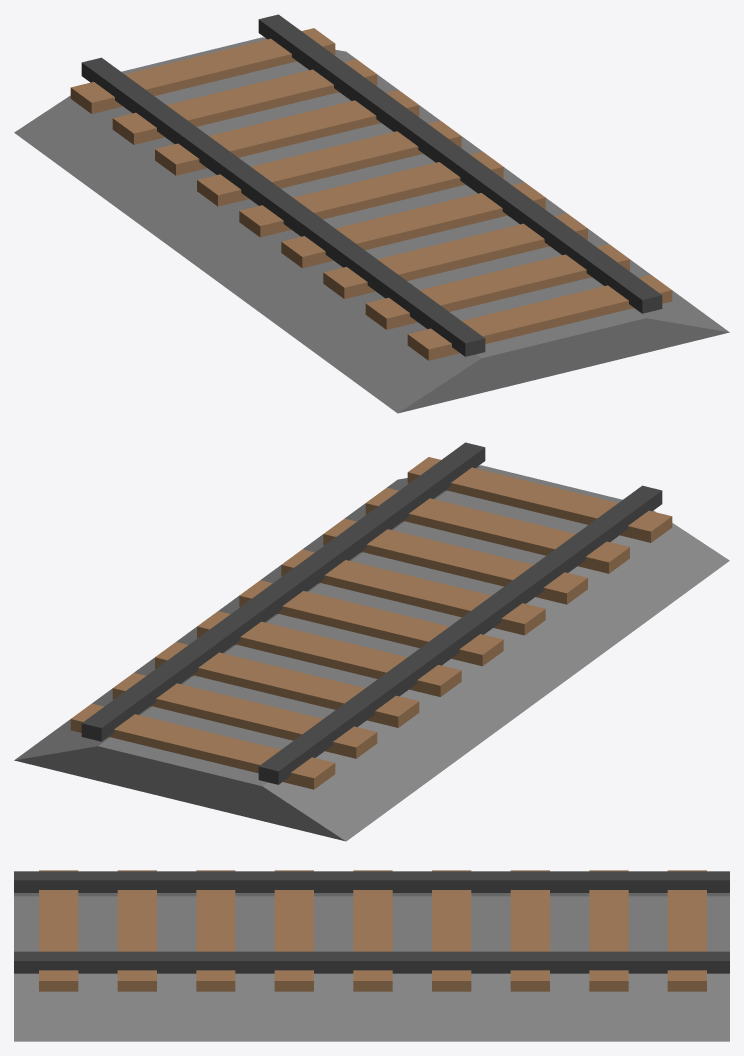
Rendered from west_huoche02.FBX.
3 renders of one model, top to bottom at view 1: azimuth 30°, elevation 25°; view 2: azimuth 150°, elevation 25°; view 3: azimuth 270°, elevation 25°, orthographic. The views are drawn at different scales.
Visible parts, largest first — view 1: west_huoche02; view 2: west_huoche02; view 3: west_huoche02.
Boxes of the visible parts, x1,y1,x2,y2 form: west_huoche02: (14,14,729,413); west_huoche02: (14,442,729,841); west_huoche02: (14,870,729,1041).
Bounding box in the file's own units: 1226 × 189 × 2453.
